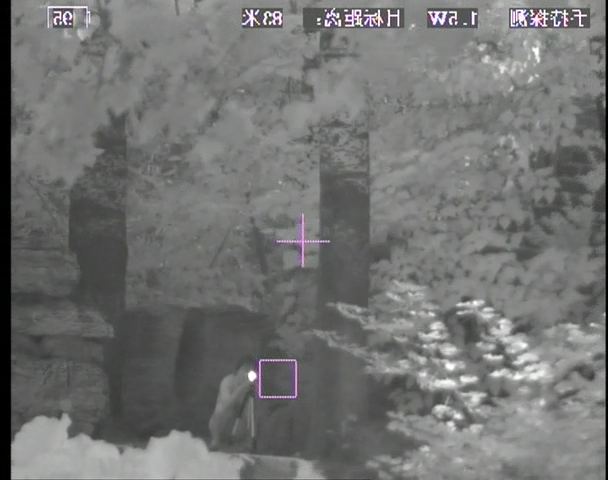my: (247, 369, 262, 383)
